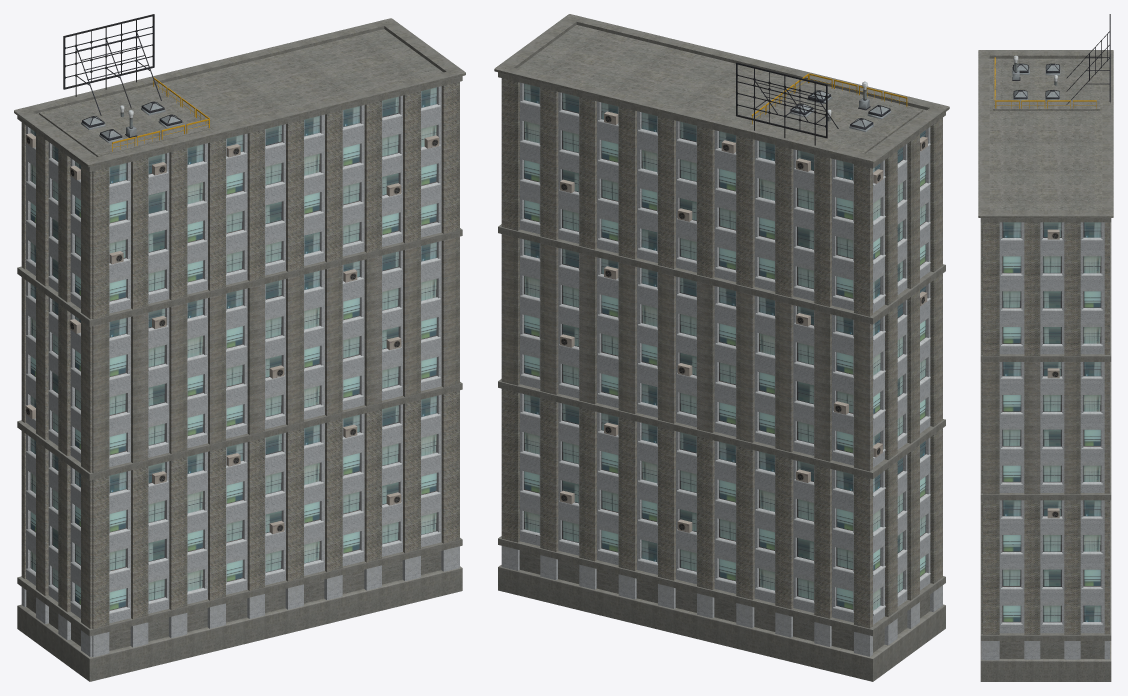
Rendered from u2SEBuild5.gltf.
3 renders of one model, left to right at view 1: azimuth 30°, elevation 25°; view 2: azimuth 150°, elevation 25°; view 3: azimuth 270°, elevation 25°, orthographic. The views are drawn at different scales.
Visible parts, largest first — view 1: u2SEBuild5; view 2: u2SEBuild5; view 3: u2SEBuild5.
Boxes of the visible parts, bbox=[...] form: u2SEBuild5: bbox=[14, 14, 465, 681]; u2SEBuild5: bbox=[494, 14, 949, 681]; u2SEBuild5: bbox=[978, 14, 1113, 681].
Size of the model in its own units: 11.93 by 17.53 by 4.1.
12 materials, 12 textured.
